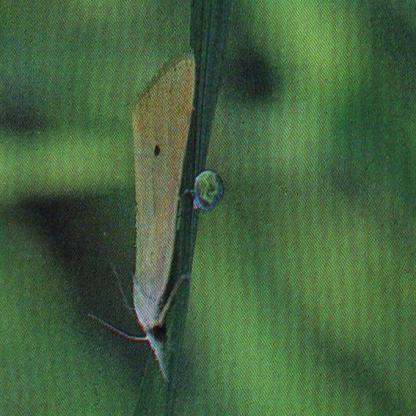stem-borer: (128, 44, 196, 384)
